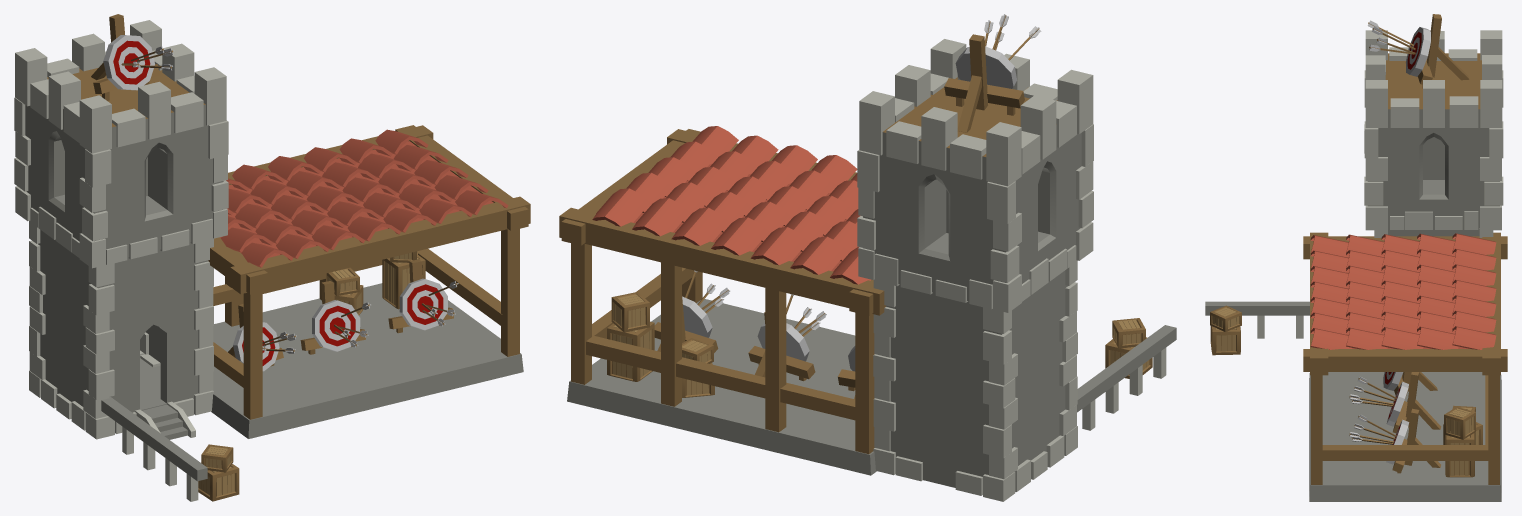
Rendered from Archery Second Age Le.glb.
3 views of the same model, side by side, from view 1: azimuth 30°, elevation 25°; view 2: azimuth 150°, elevation 25°; view 3: azimuth 270°, elevation 25° (orthographic). The views are drawn at different scales.
Visible parts, largest first — view 1: Archery Second Age Le; view 2: Archery Second Age Le; view 3: Archery Second Age Le.
Boxes of the visible parts, box(x1,y1,x2,y2) form: Archery Second Age Le: box(14, 14, 530, 501); Archery Second Age Le: box(559, 14, 1176, 501); Archery Second Age Le: box(1205, 14, 1507, 501).
Bounding box in the file's own units: 1.38 × 1.25 × 1.
